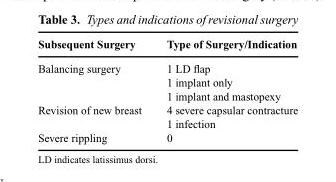table: (37, 37, 297, 143)
table column: (153, 37, 297, 143), (37, 37, 153, 143)
table column header: (37, 37, 297, 55)
table row: (37, 55, 297, 74), (37, 37, 297, 55), (37, 74, 297, 88), (37, 88, 297, 102), (37, 102, 297, 116), (37, 116, 297, 130), (37, 130, 297, 143)
table spanning cell: (37, 55, 153, 102), (37, 102, 153, 130)
